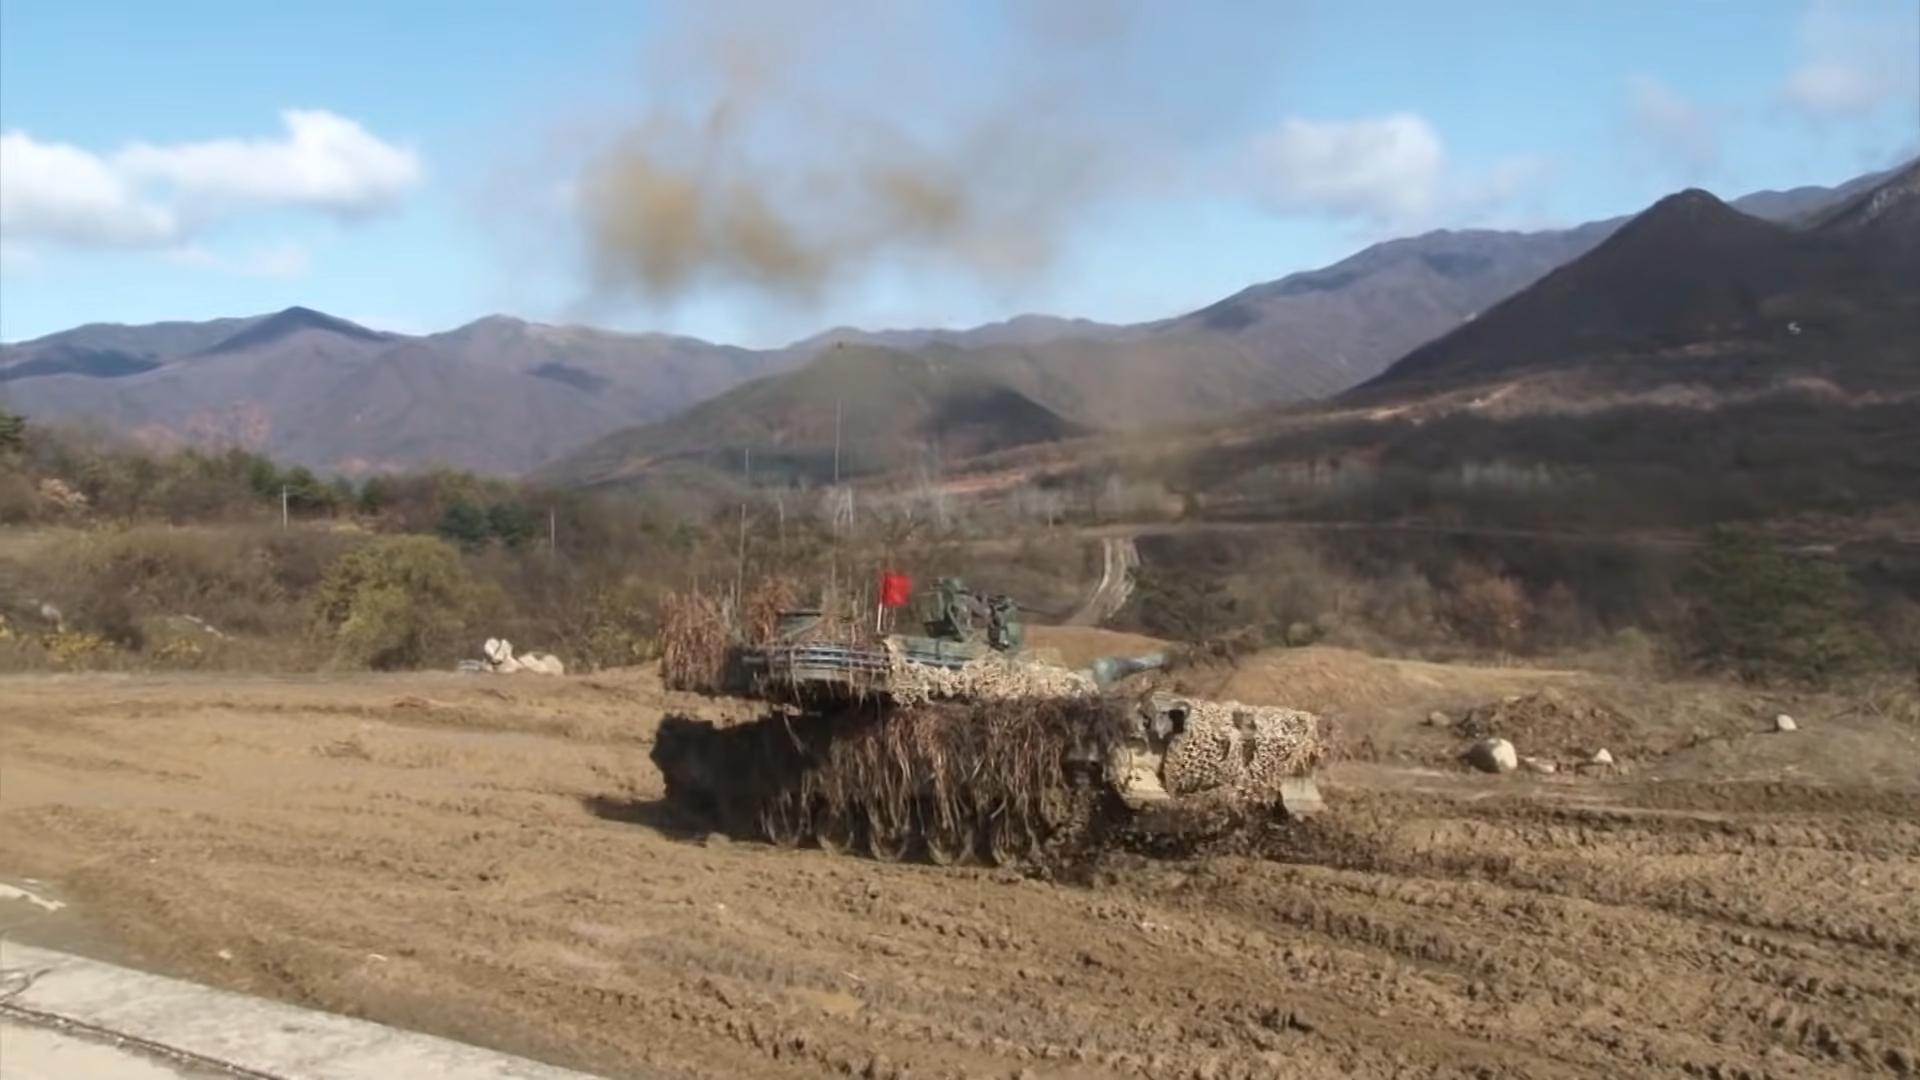tank: (653, 576, 1332, 884)
